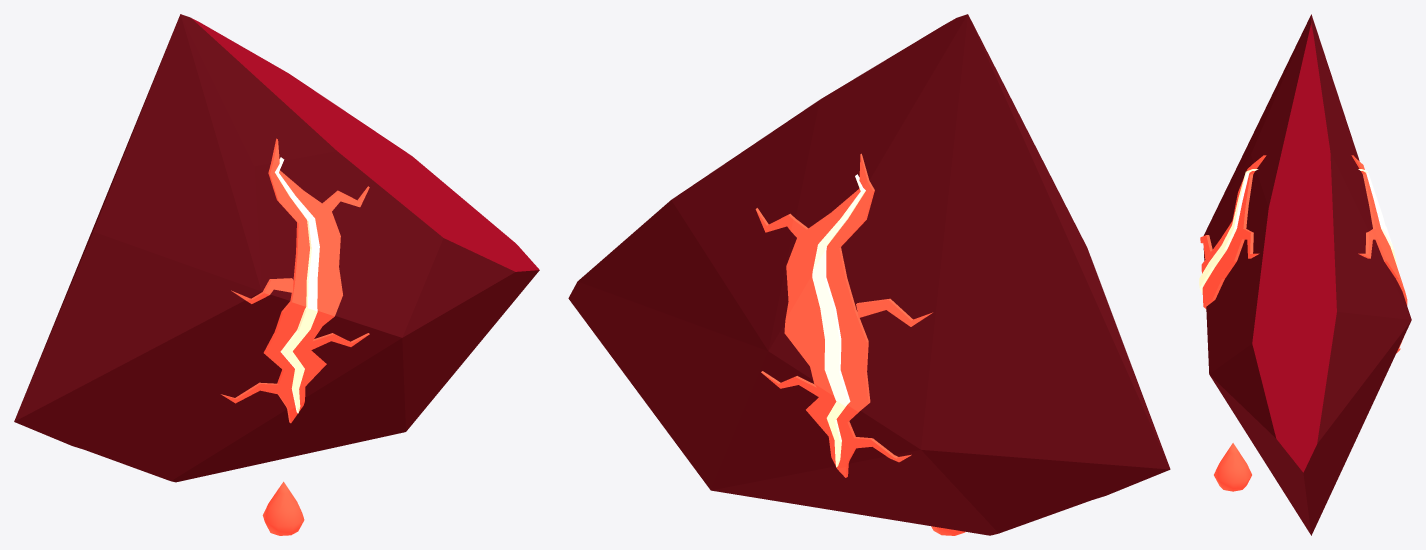
File: bloodrift_fragment.glb
3 views of the same model, side by side, from view 1: azimuth 30°, elevation 25°; view 2: azimuth 150°, elevation 25°; view 3: azimuth 270°, elevation 25° (orthographic). The views are drawn at different scales.
Parts seen in each view (by area): view 1: bloodrift_fragment; view 2: bloodrift_fragment; view 3: bloodrift_fragment.
Part boxes in pixels (left/top/right/bottom): bloodrift_fragment: left=14, top=14, right=539, bottom=535; bloodrift_fragment: left=568, top=14, right=1170, bottom=535; bloodrift_fragment: left=1199, top=14, right=1411, bottom=535.
Size of the model in its own units: 0.18 by 0.1644 by 0.0702.
